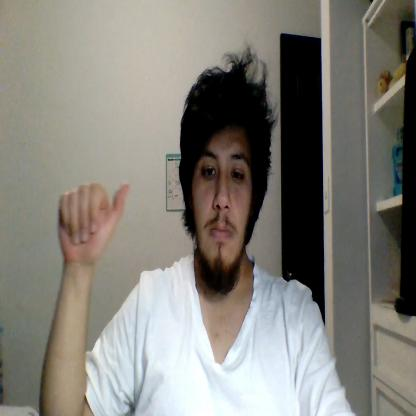A: (58, 182, 129, 262)
